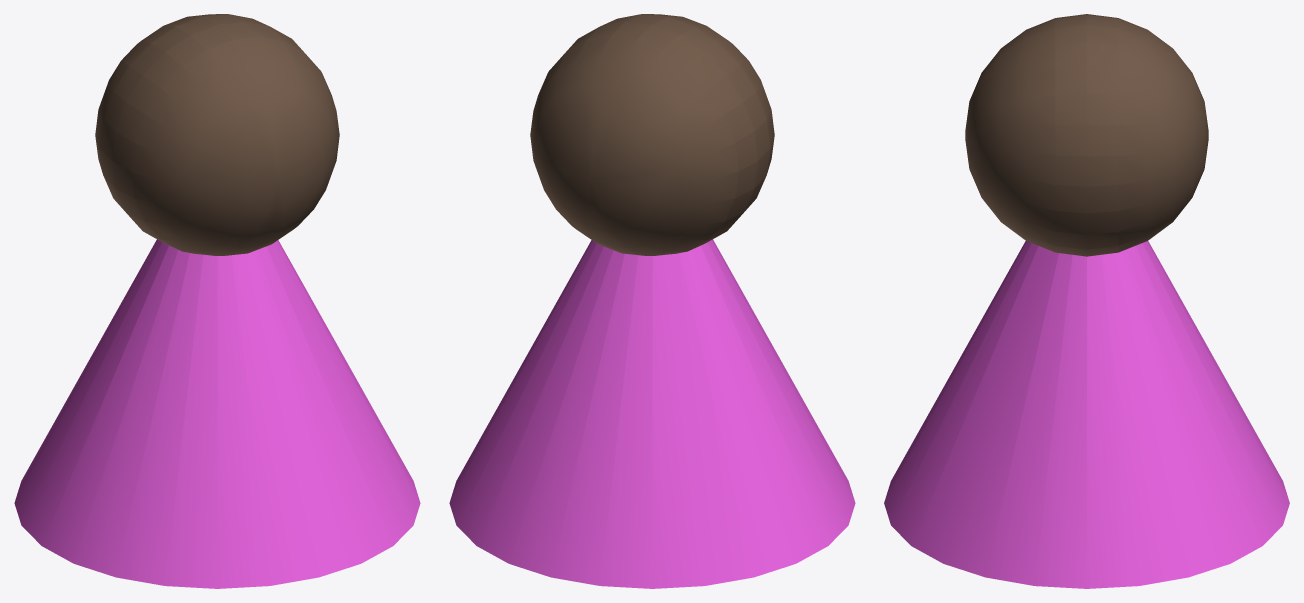
File: figure_2.fbx
3 renders of one model, left to right at view 1: azimuth 30°, elevation 25°; view 2: azimuth 150°, elevation 25°; view 3: azimuth 270°, elevation 25°, orthographic.
Parts seen in each view (by area): view 1: cylinder_cone_8, sphere_full_9; view 2: cylinder_cone_8, sphere_full_9; view 3: cylinder_cone_8, sphere_full_9.
Part boxes in pixels (box(x1,y1,x2,y2)): cylinder_cone_8: box(14, 239, 420, 588); sphere_full_9: box(95, 14, 339, 255); cylinder_cone_8: box(449, 239, 855, 588); sphere_full_9: box(530, 14, 774, 255); cylinder_cone_8: box(884, 241, 1289, 588); sphere_full_9: box(965, 14, 1208, 256).
Bounding box in the file's own units: 10 × 13 × 10.
